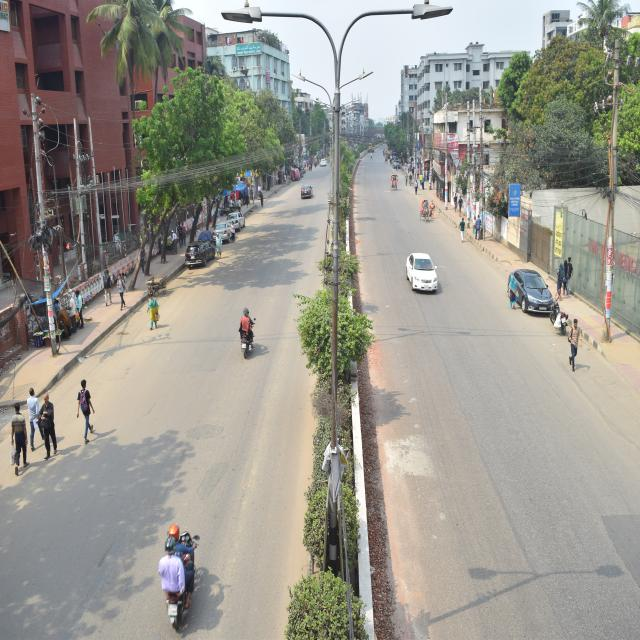car: (510, 262, 554, 322), (400, 242, 440, 296), (180, 237, 216, 271), (209, 214, 235, 253), (226, 208, 248, 235), (300, 176, 318, 208)
motorbike: (138, 526, 222, 640), (230, 304, 266, 361), (547, 290, 572, 336)
